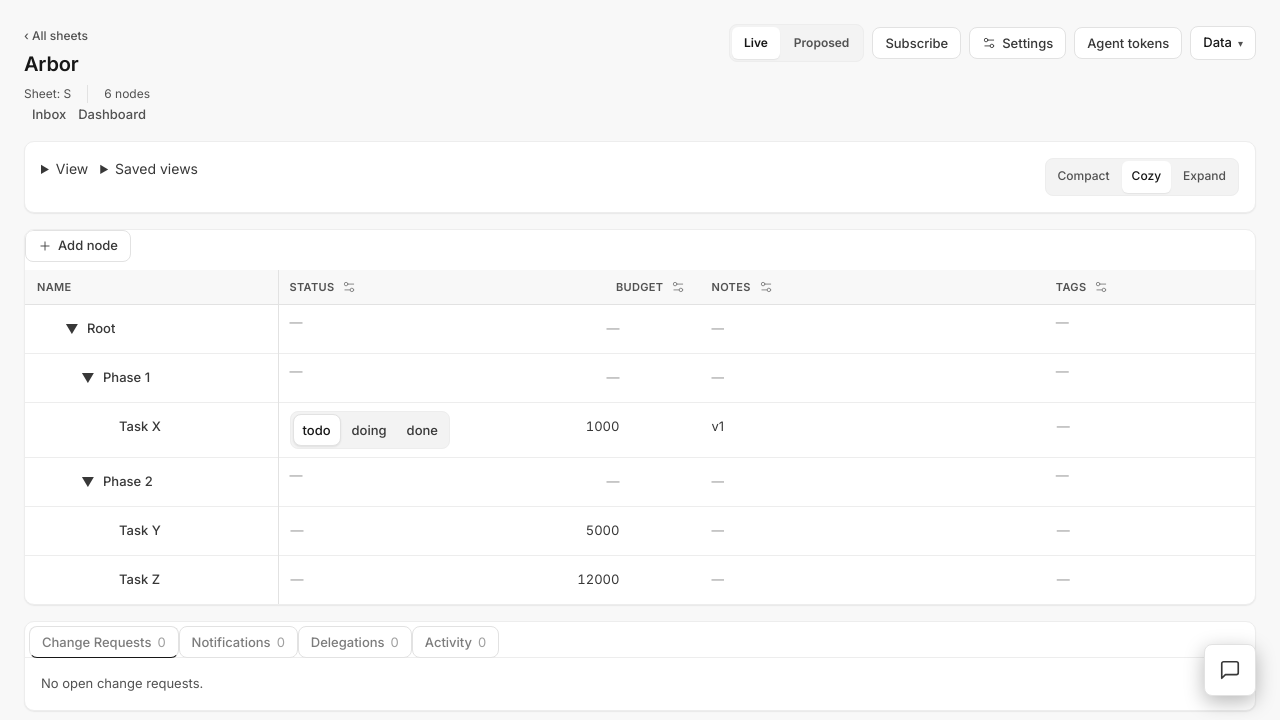
it: AgentTokensModal — the viewer's own agent credentials › renders the viewer's tokens with mode, scope, expiry, last use and state
Expected: the table with test id "tree-table" is shown, [25, 270, 1255, 604]
What coordinates should you click on to do the following:
click the button with test id "agent-tokens-button"
I would click on:
 (1128, 43)
Its box is [1074, 27, 1182, 59].
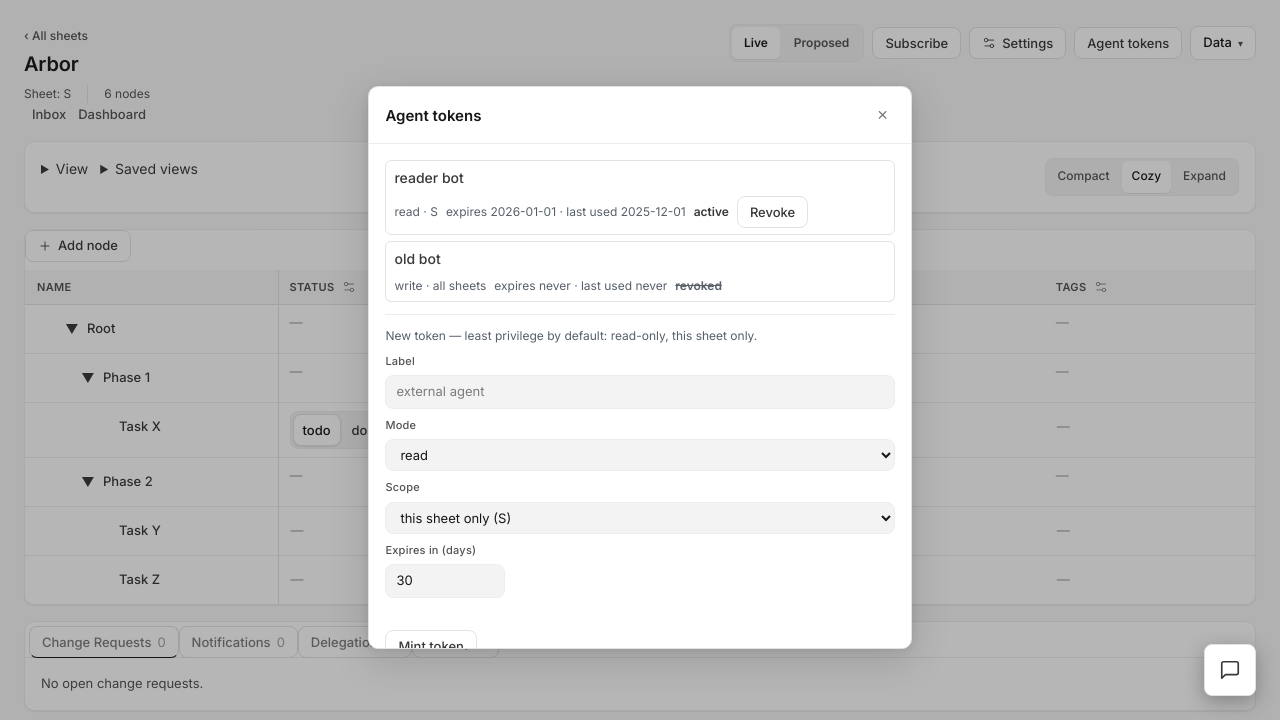
Expected: the list with test id "agent-token-list" is shown, [385, 160, 894, 302]
Expected: the list item with test id "agent-token-row-AT-1" shows "reader bot", [394, 169, 464, 186]
Expected: the list item with test id "agent-token-row-AT-1" shows "read", [394, 204, 420, 219]
